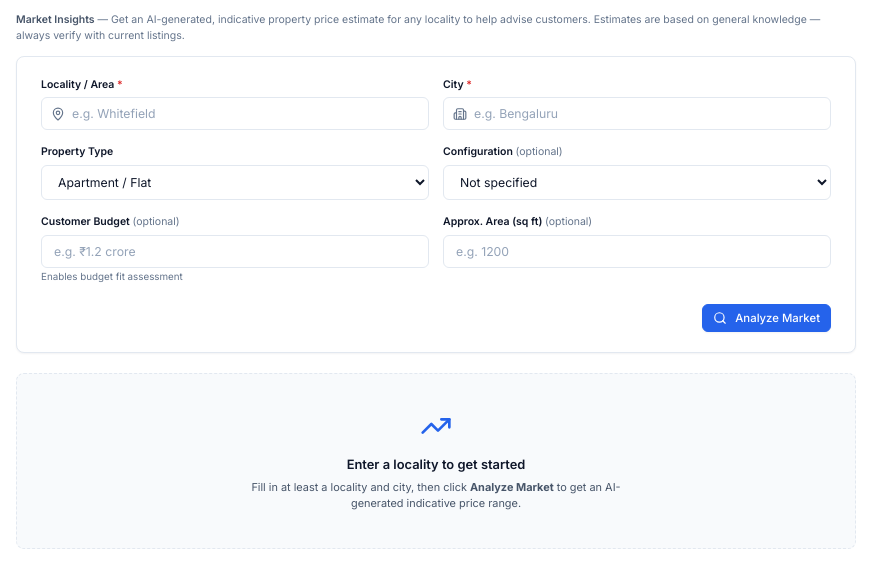
MarketInsights — Validation › shows validation error if city is missing
The width and height of the screenshot is (873, 584).
Type "Whitefield" into the field with placeholder "e.g. Whitefield". click: (235, 114)
box: [41, 97, 429, 130]
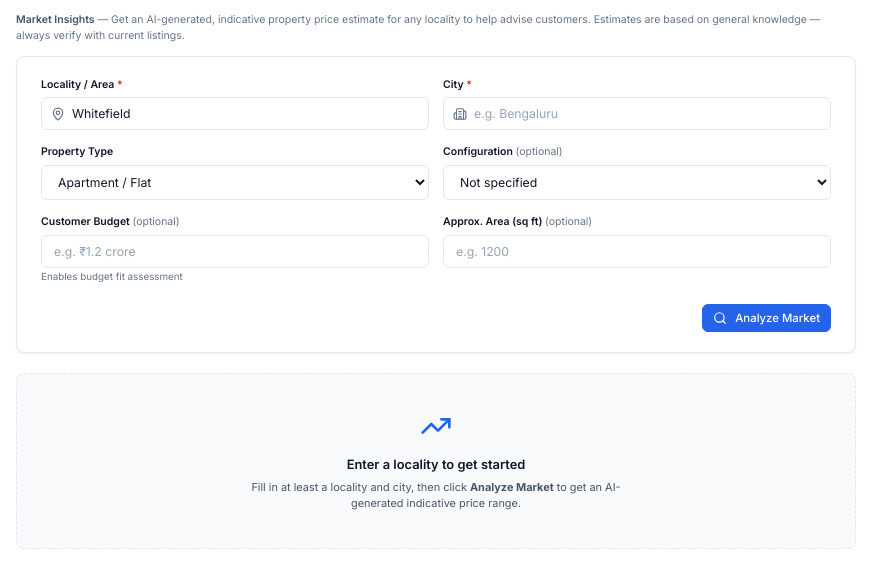
Click the button "Analyze Market". click: (767, 318)
box: [702, 304, 831, 332]
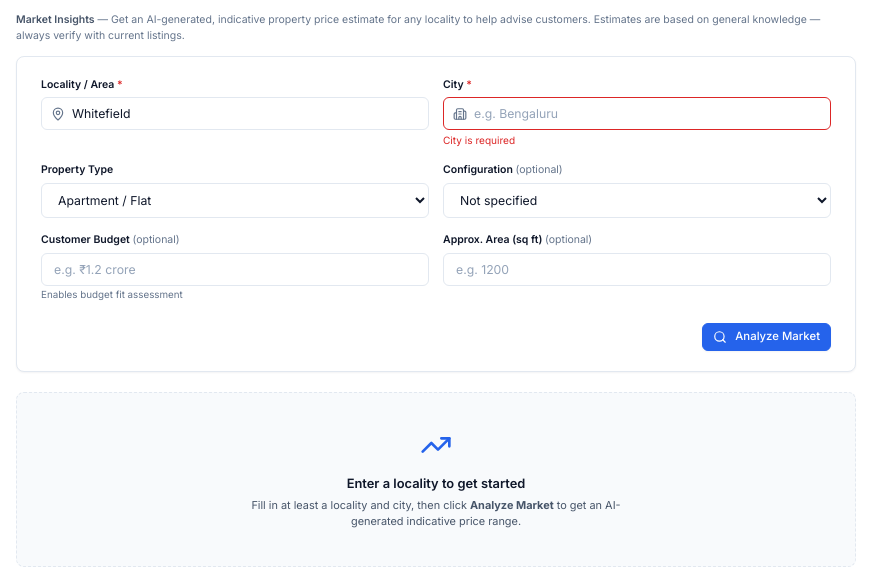
Expected: the text "City is required" is shown, [443, 134, 515, 146]
